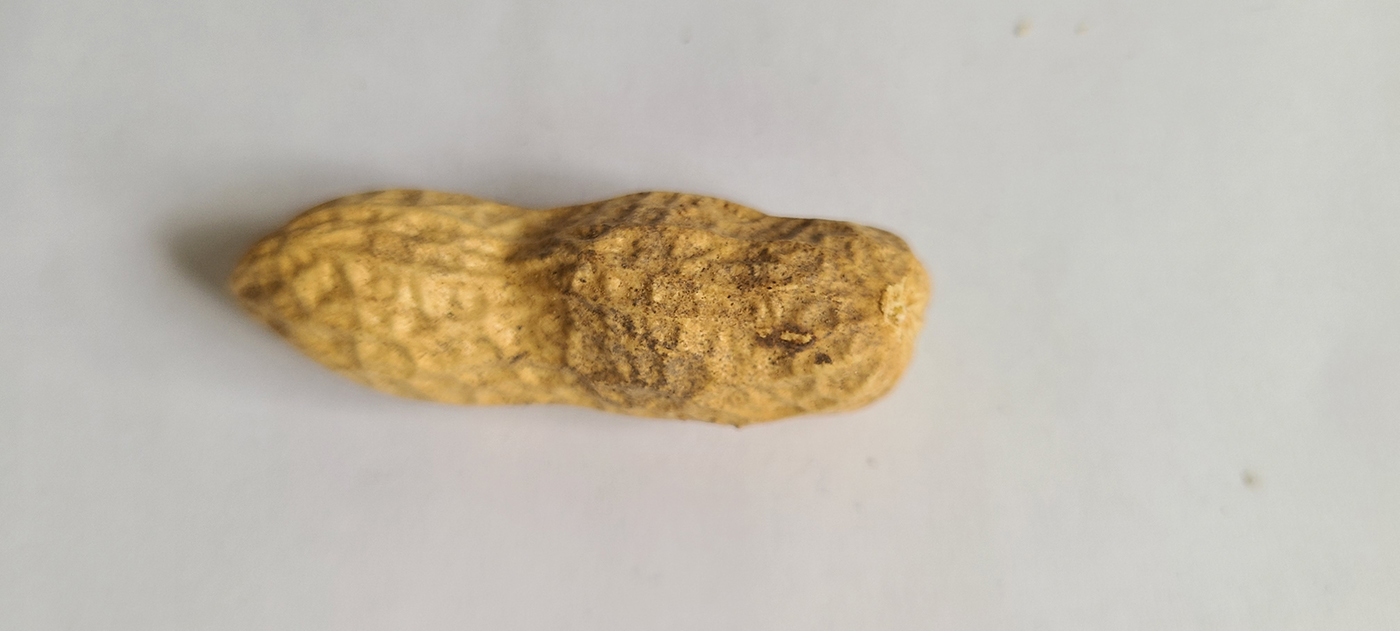h: (223, 182, 932, 430)
